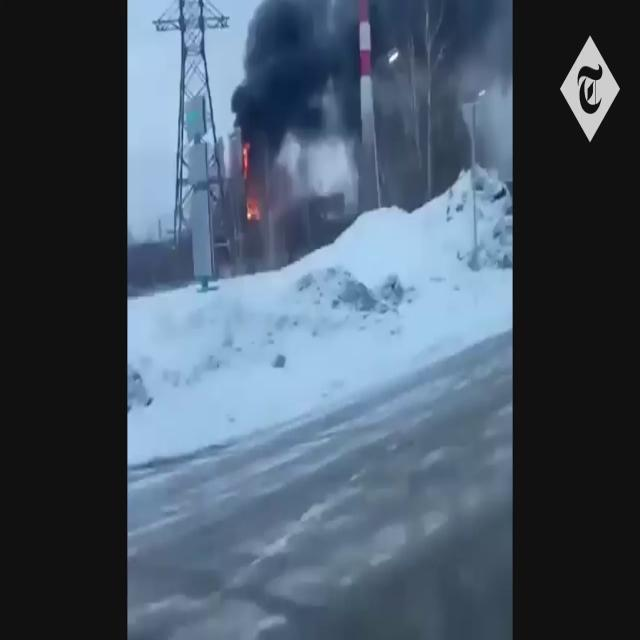Smoke: (231, 6, 482, 168)
